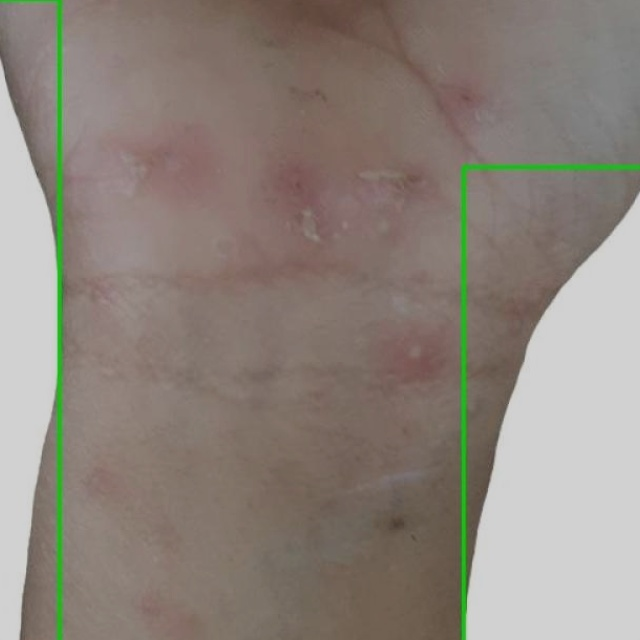Scabies: (463, 167, 639, 639), (0, 0, 59, 639)
